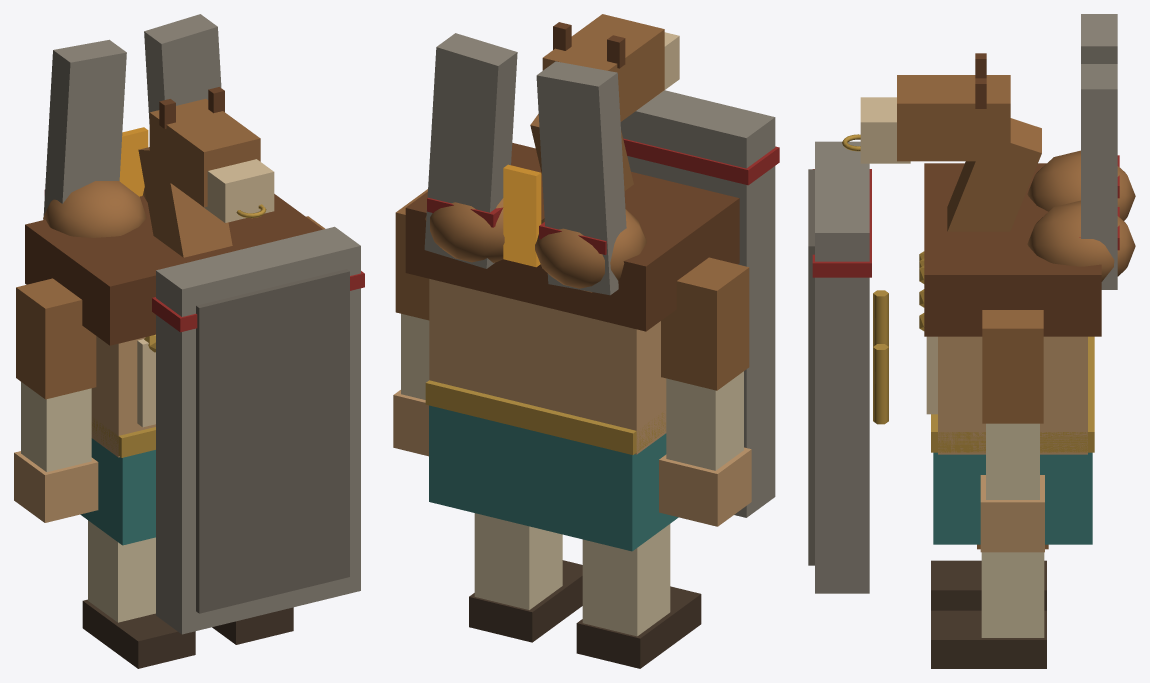
Rendered from BO_SK_Enemy_CamelStele_v001.glb.
3 renders of one model, left to right at view 1: azimuth 30°, elevation 25°; view 2: azimuth 150°, elevation 25°; view 3: azimuth 270°, elevation 25°, orthographic. The views are drawn at different scales.
Parts seen in each view (by area): view 1: attachment_034, attachment_033, body_019, body_025, body_016, body_008, body_022, body_038, body_004, body_017, body_007, body_006 (+9 smaller); view 2: body_006, body_038, body_019, attachment_033, body_025, body_022, body_016, body_004, body_001, body_017, body_008, body_039 (+12 smaller); view 3: attachment_033, body_019, body_006, body_008, body_038, body_013, body_022, body_007, body_001, body_002, body_021, body_014 (+11 smaller).
Boxes of the visible parts, x1=… form: attachment_034: x1=196, y1=269, x2=349, y2=613; attachment_033: x1=156, y1=226, x2=360, y2=634; body_019: x1=25, y1=194, x2=322, y2=345; body_025: x1=43, y1=39, x2=126, y2=215; body_016: x1=16, y1=278, x2=96, y2=399; body_008: x1=149, y1=98, x2=260, y2=207; body_022: x1=144, y1=14, x2=221, y2=123; body_038: x1=80, y1=438, x2=155, y2=545; body_004: x1=88, y1=520, x2=155, y2=622; body_017: x1=21, y1=382, x2=91, y2=472; body_007: x1=138, y1=147, x2=232, y2=257; body_006: x1=91, y1=336, x2=155, y2=457; body_006: x1=429, y1=279, x2=666, y2=454; body_038: x1=429, y1=405, x2=678, y2=551; body_019: x1=405, y1=143, x2=739, y2=331; attachment_033: x1=620, y1=90, x2=775, y2=517; body_025: x1=536, y1=61, x2=626, y2=295; body_022: x1=424, y1=33, x2=517, y2=268; body_016: x1=661, y1=257, x2=749, y2=390; body_004: x1=582, y1=524, x2=670, y2=636; body_001: x1=474, y1=513, x2=562, y2=609; body_017: x1=666, y1=371, x2=743, y2=470; body_008: x1=542, y1=14, x2=664, y2=121; body_039: x1=425, y1=380, x2=665, y2=454; attachment_033: x1=815, y1=141, x2=869, y2=593; body_019: x1=924, y1=163, x2=1101, y2=336; body_006: x1=938, y1=336, x2=1087, y2=454; body_008: x1=897, y1=75, x2=1010, y2=161; body_038: x1=933, y1=452, x2=1092, y2=544; body_013: x1=982, y1=310, x2=1043, y2=423; body_022: x1=1081, y1=64, x2=1117, y2=289; body_007: x1=947, y1=118, x2=1041, y2=231; body_001: x1=981, y1=552, x2=1044, y2=637; body_002: x1=931, y1=610, x2=1046, y2=668; body_021: x1=1027, y1=200, x2=1135, y2=281; body_014: x1=986, y1=423, x2=1039, y2=499.
Bounding box in the file's own units: 1.56 × 2.8 × 1.44.
